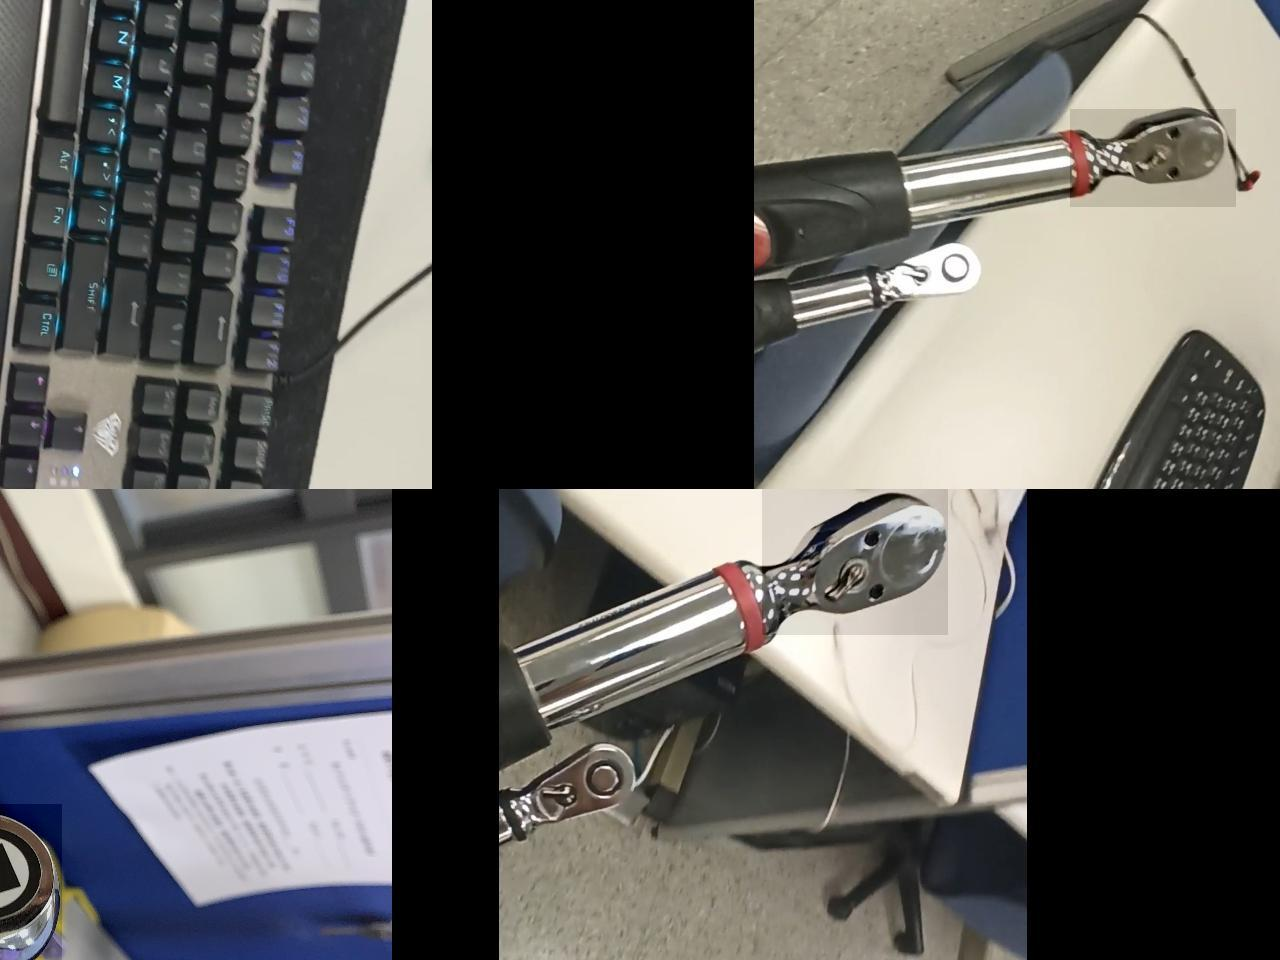Tool: (762, 489, 948, 634), (1070, 108, 1236, 206), (521, 744, 635, 830), (885, 240, 987, 312)
